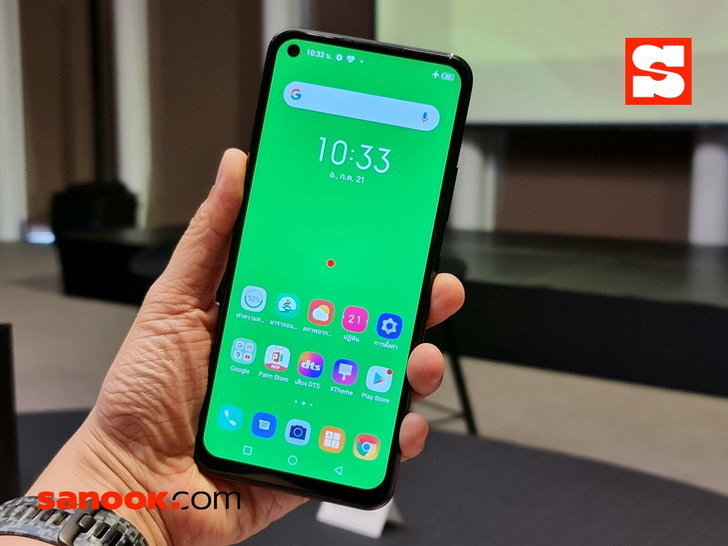Phone: (193, 27, 474, 512)
